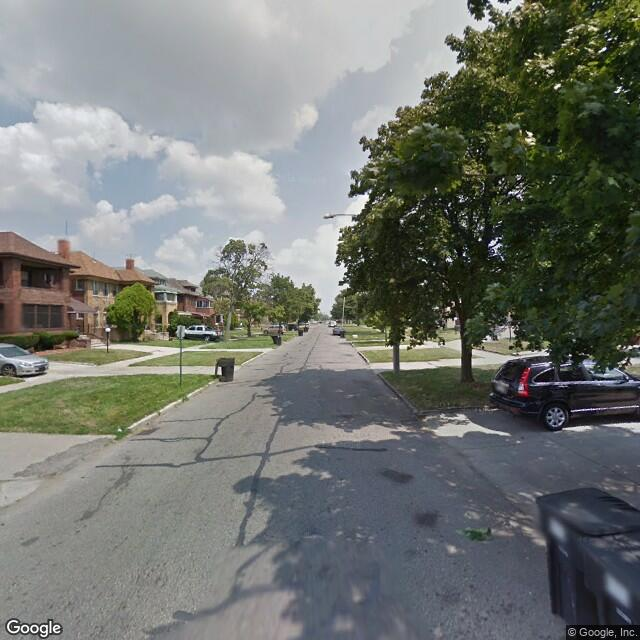litter: (114, 428, 124, 435)
